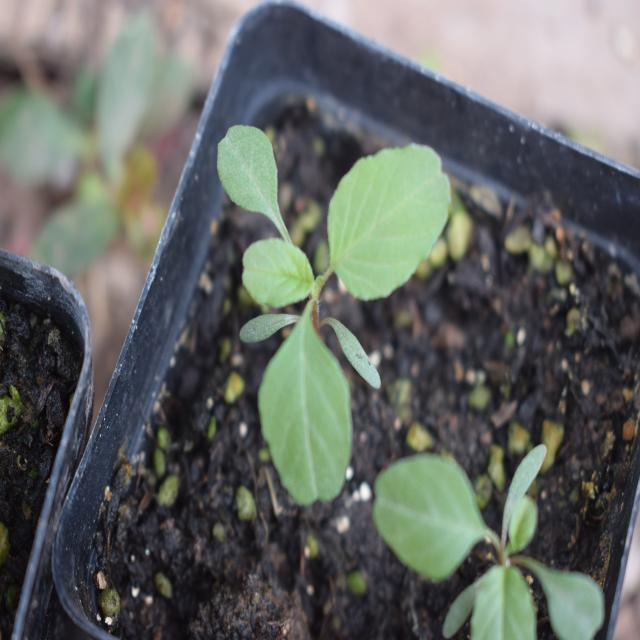pigweed: (198, 105, 460, 508)
